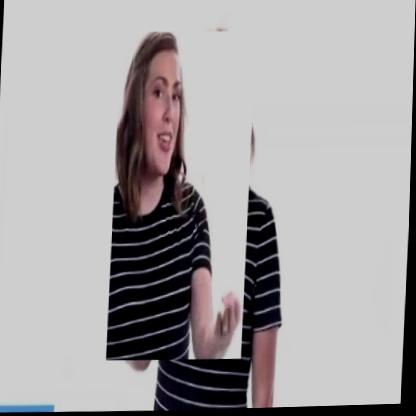ThankYou: (108, 30, 256, 363)
